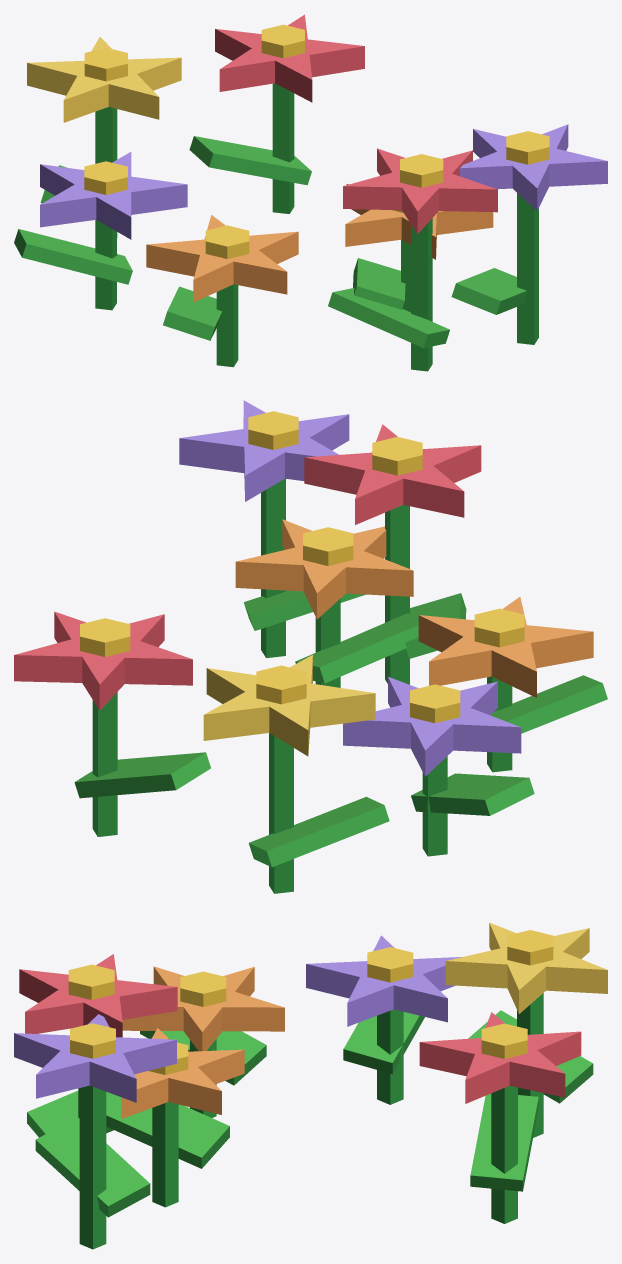
Rendered from Flowers_0.glb.
3 views of the same model, one above another, from view 1: azimuth 30°, elevation 25°; view 2: azimuth 150°, elevation 25°; view 3: azimuth 270°, elevation 25° (orthographic). The views are drawn at different scales.
Visible parts, largest first — view 1: Flowers_0; view 2: Flowers_0; view 3: Flowers_0.
Boxes of the visible parts, left/top/right/bottom form: Flowers_0: left=14, top=14, right=607, bottom=371; Flowers_0: left=14, top=400, right=607, bottom=893; Flowers_0: left=14, top=922, right=607, bottom=1249.
Bounding box in the file's own units: 3.93 × 1.78 × 4.49.
Materials: 1 (1 with a texture image).
